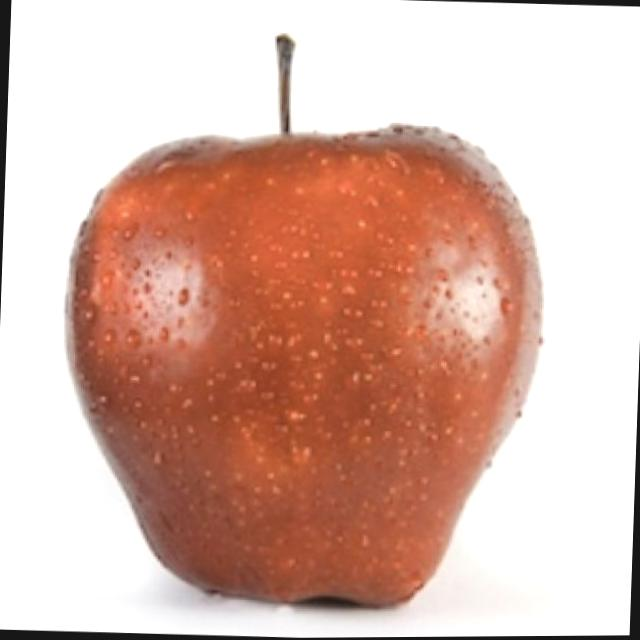Apple: (52, 24, 554, 616)
